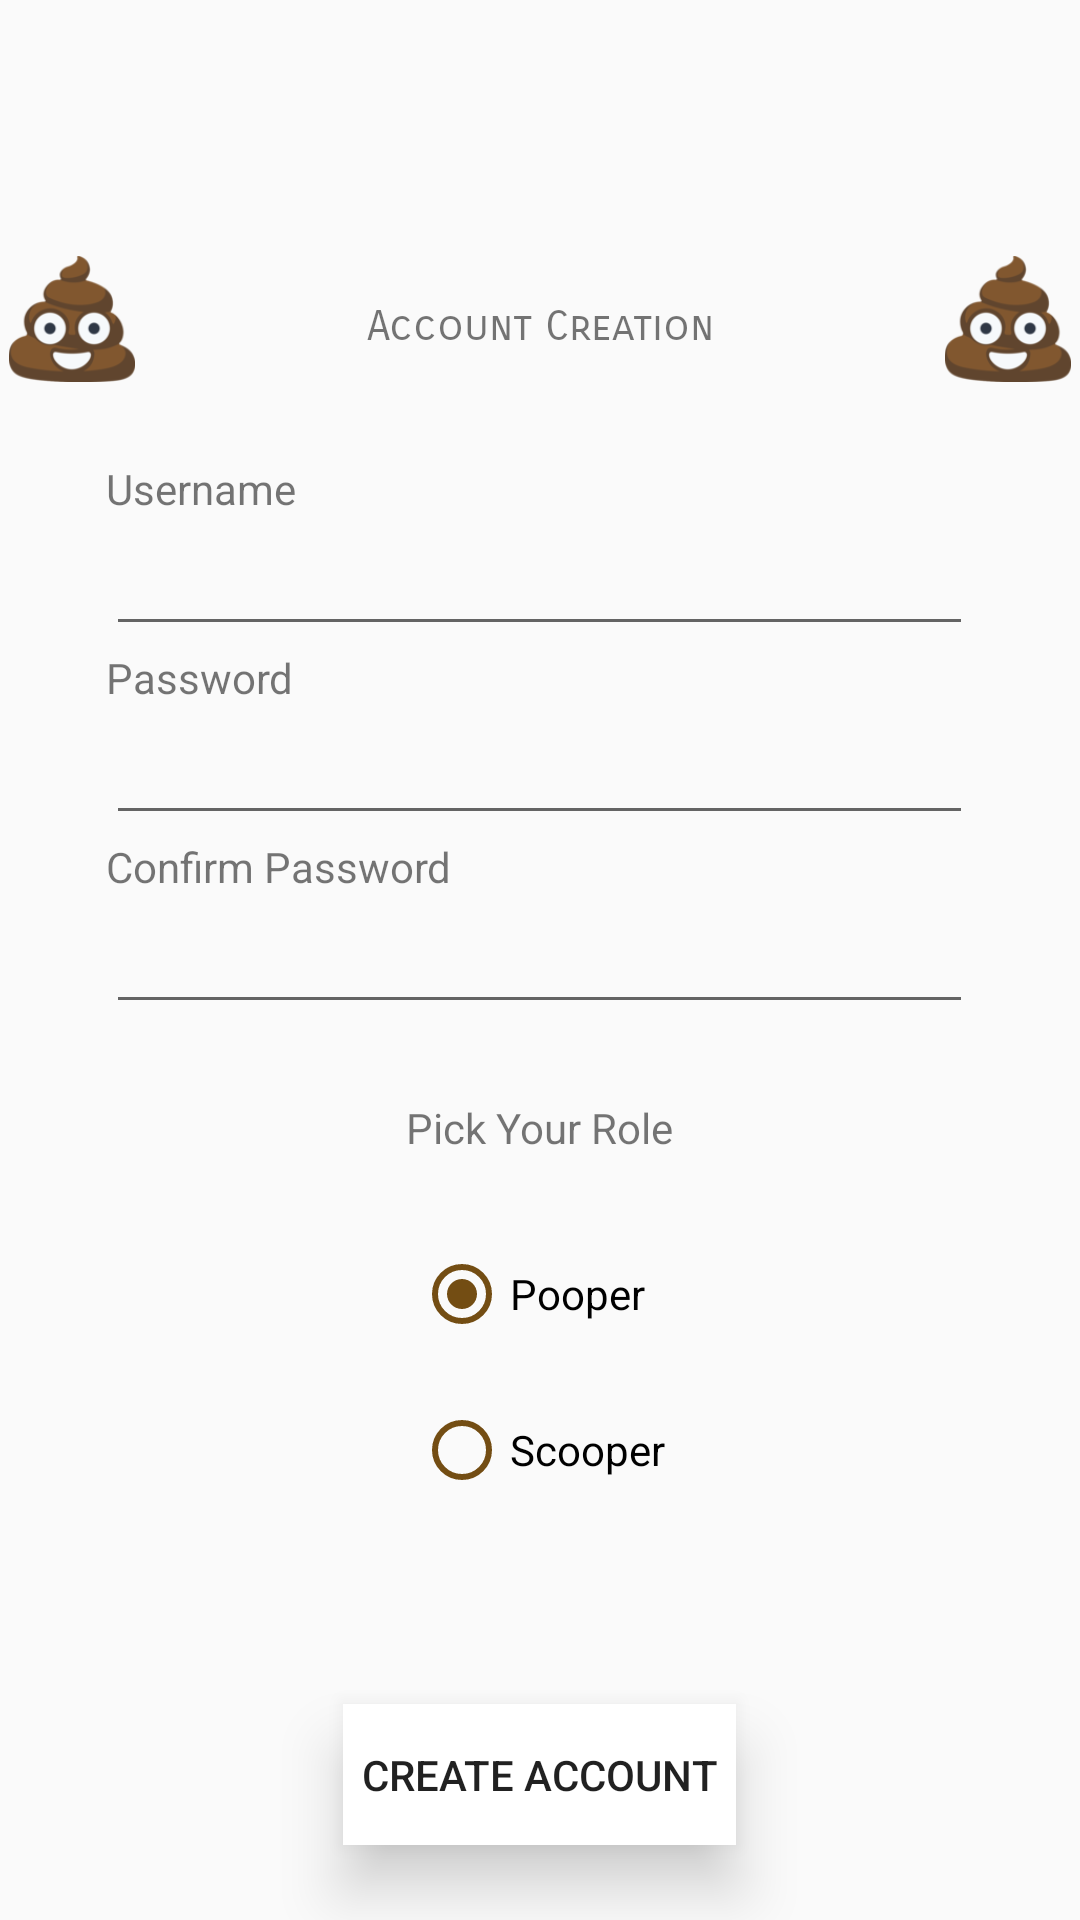

Locate icon controls on the screen. Image size 1080 × 1920, boxes as (x1, y1, x2, y2).
poop emoji: (9, 256, 135, 382), (945, 256, 1071, 382)
